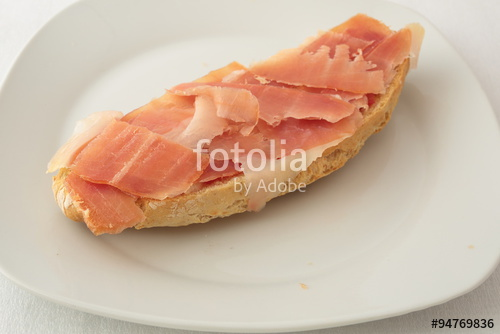slice of bread: (58, 22, 406, 234)
